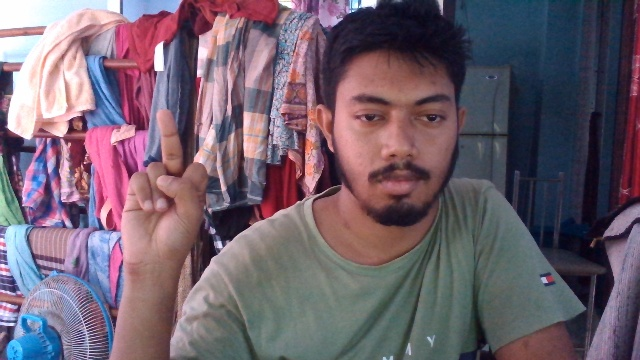fucku: (121, 108, 210, 267)
